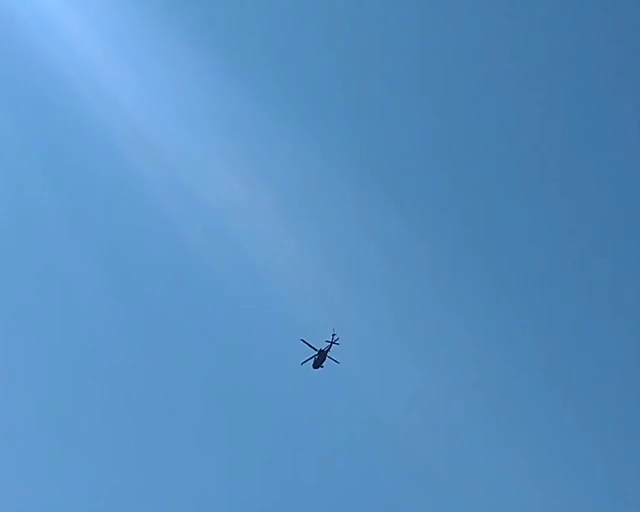HELICOPTER: (299, 327, 341, 370)
